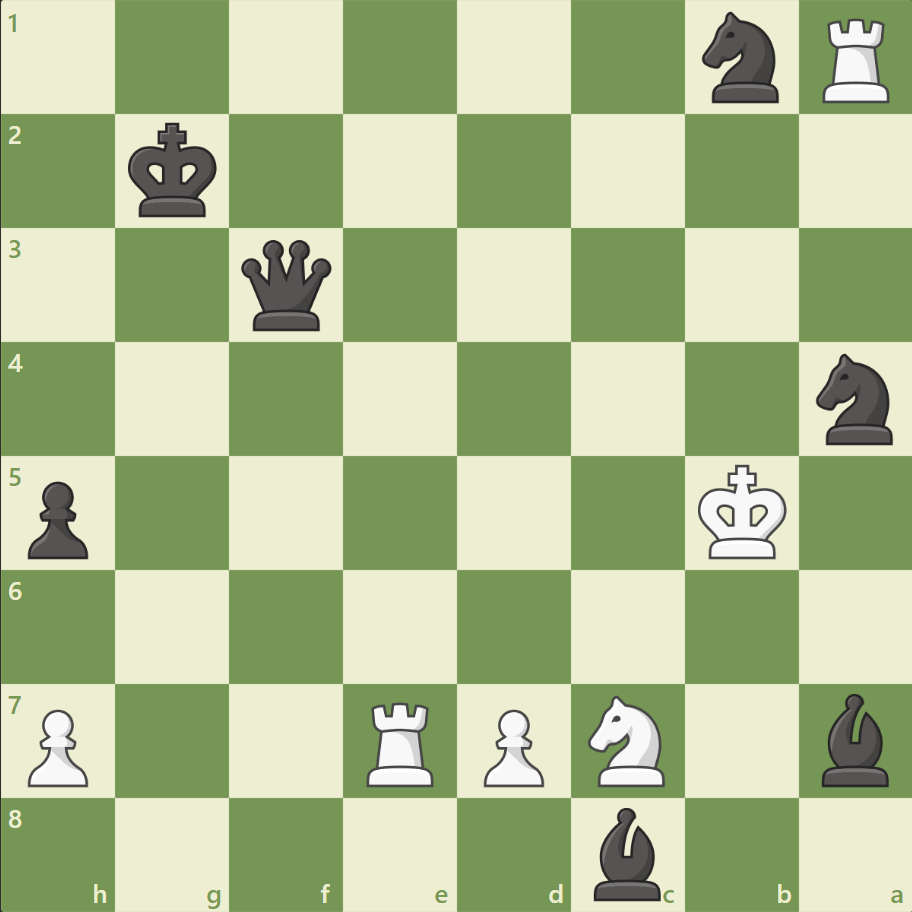K: (692, 458, 792, 566)
N: (579, 688, 676, 791)
P: (474, 700, 549, 791), (20, 700, 95, 791)
R: (814, 12, 897, 109), (360, 693, 442, 790)
b: (585, 801, 669, 904), (812, 687, 896, 790)
k: (124, 117, 224, 225)
n: (692, 7, 789, 110), (806, 348, 903, 450)
p: (20, 473, 95, 564)
q: (237, 236, 336, 335)
